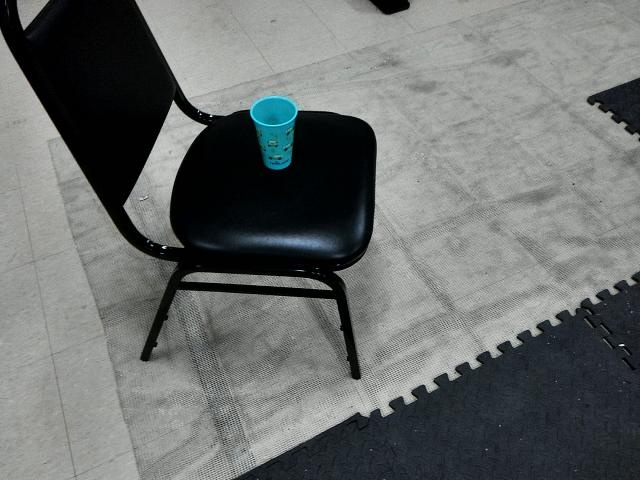coffee_cup: (249, 96, 301, 170)
